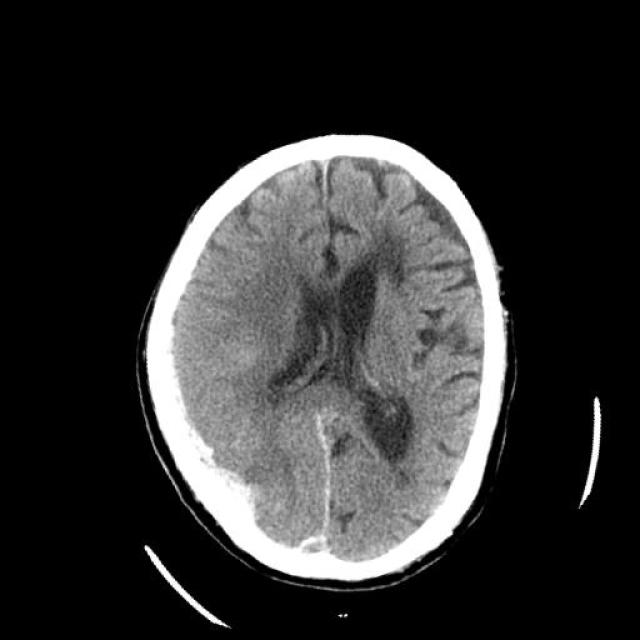Subarachnoid: (254, 406, 380, 572)
Subdural: (106, 274, 298, 594)
